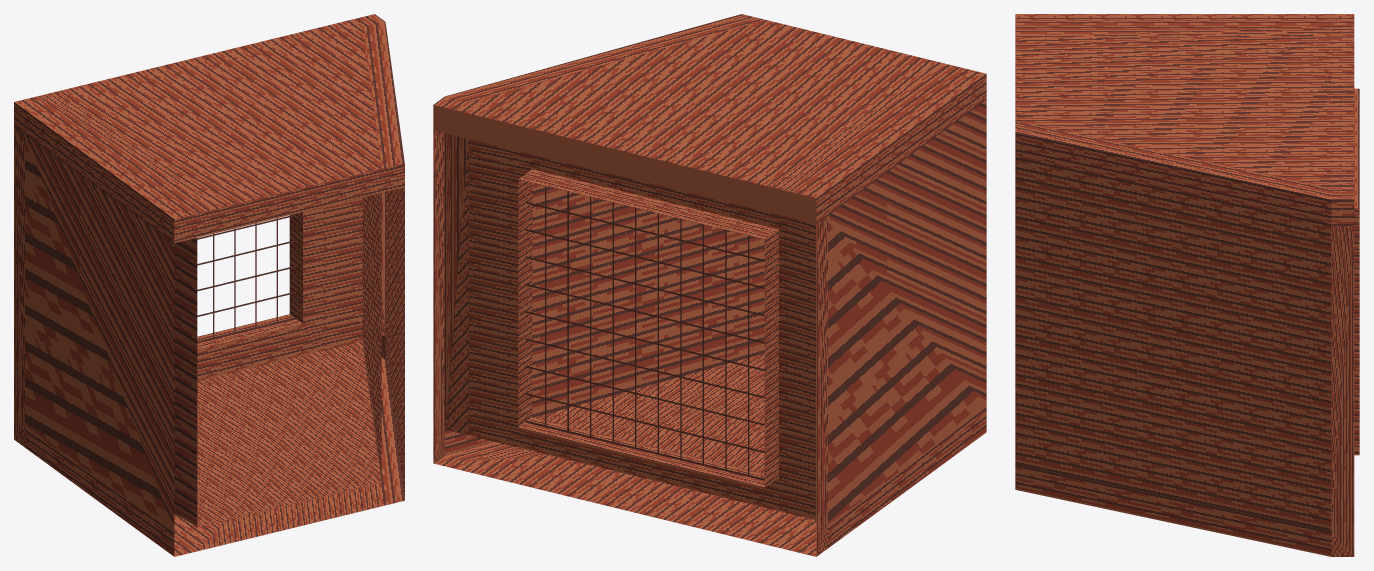
File: cabin.glb
3 views of the same model, side by side, from view 1: azimuth 30°, elevation 25°; view 2: azimuth 150°, elevation 25°; view 3: azimuth 270°, elevation 25° (orthographic). The views are drawn at different scales.
Parts seen in each view (by area): view 1: room; view 2: room; view 3: room.
Part boxes in pixels (x1,y1,x2,y2): room: (14, 14, 404, 556); room: (433, 14, 986, 556); room: (1015, 14, 1359, 556).
Size of the model in its own units: 15.65 by 14 by 12.23.
Materials: 4 (2 with a texture image).
